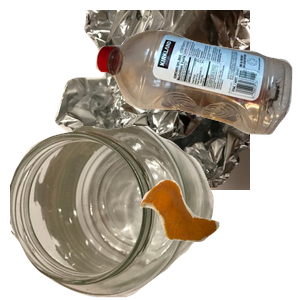glass: (10, 126, 216, 300)
metal: (52, 10, 292, 190)
plastic: (93, 27, 300, 154)
trash: (137, 177, 300, 300)
